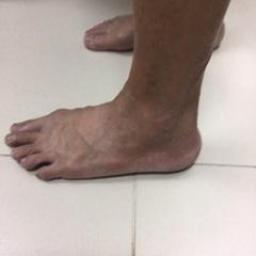Lateral View -Left Foot-: (2, 72, 215, 186)
